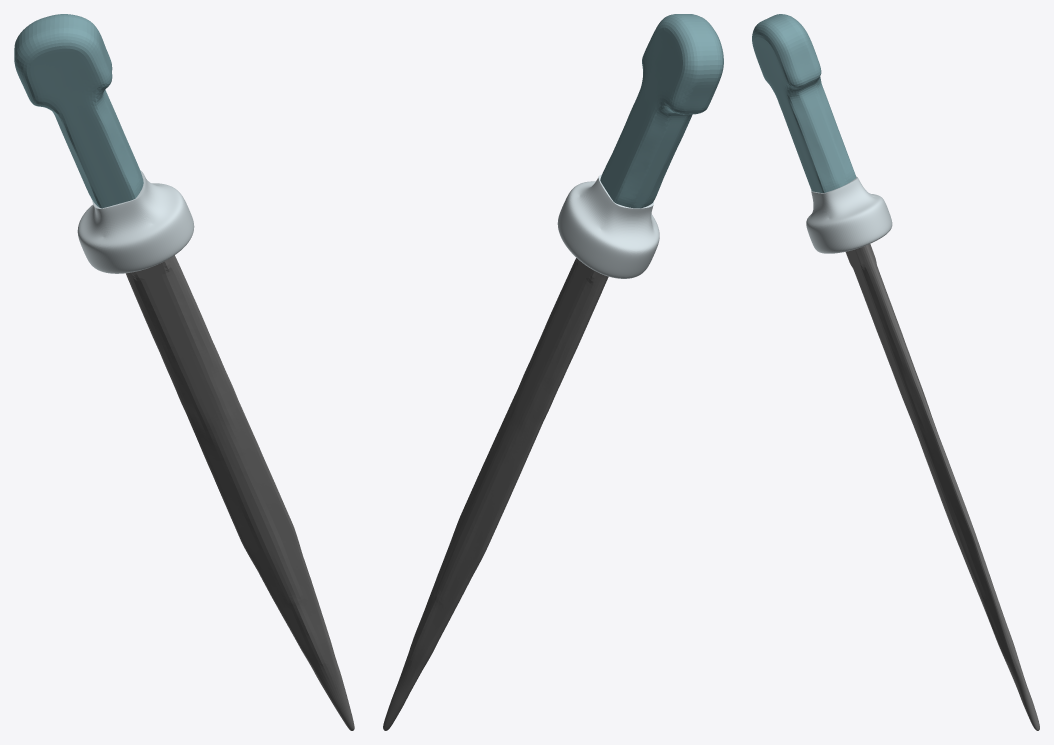
Rendered from COSSACK_WEAPON_9#6.glb.
3 renders of one model, left to right at view 1: azimuth 30°, elevation 25°; view 2: azimuth 150°, elevation 25°; view 3: azimuth 330°, elevation 25°, orthographic. The views are drawn at different scales.
Visible parts, largest first — view 1: ShortKindjal1, mesh18_copy1, mesh19_copy2; view 2: ShortKindjal1, mesh18_copy1, mesh19_copy2; view 3: ShortKindjal1, mesh18_copy1, mesh19_copy2.
Boxes of the visible parts, x1,y1,x2,y2 form: ShortKindjal1: [126, 255, 354, 730]; mesh18_copy1: [14, 14, 143, 208]; mesh19_copy2: [77, 170, 194, 273]; ShortKindjal1: [383, 258, 608, 730]; mesh18_copy1: [600, 14, 723, 208]; mesh19_copy2: [557, 174, 659, 278]; ShortKindjal1: [845, 244, 1039, 730]; mesh18_copy1: [752, 14, 856, 192]; mesh19_copy2: [806, 176, 892, 253].
Size of the model in its own units: 1.4 by 3.12 by 0.3665.
